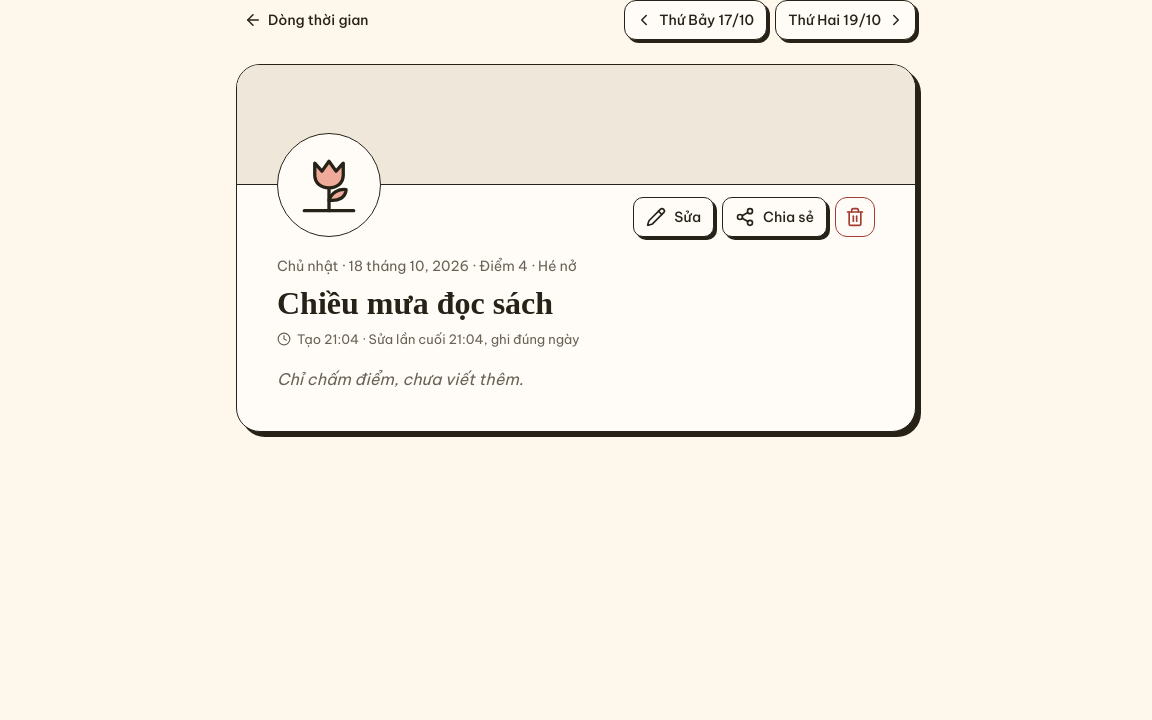
Test: Chi tiết một ngày › hiện trang; xóa cần xác nhận, báo khôi phục được 30 ngày và có Hoàn tác
Expected: the heading "Chiều mưa đọc sách" is shown, [277,285,553,321]
Expected: the text "Tạo 21:04 · Sửa lần cuối 21:04, ghi đúng ngày" is shown, [277,331,580,347]
Click the button named "Xóa nhật ký ngày này" at (855, 217), box [835,197,875,237]
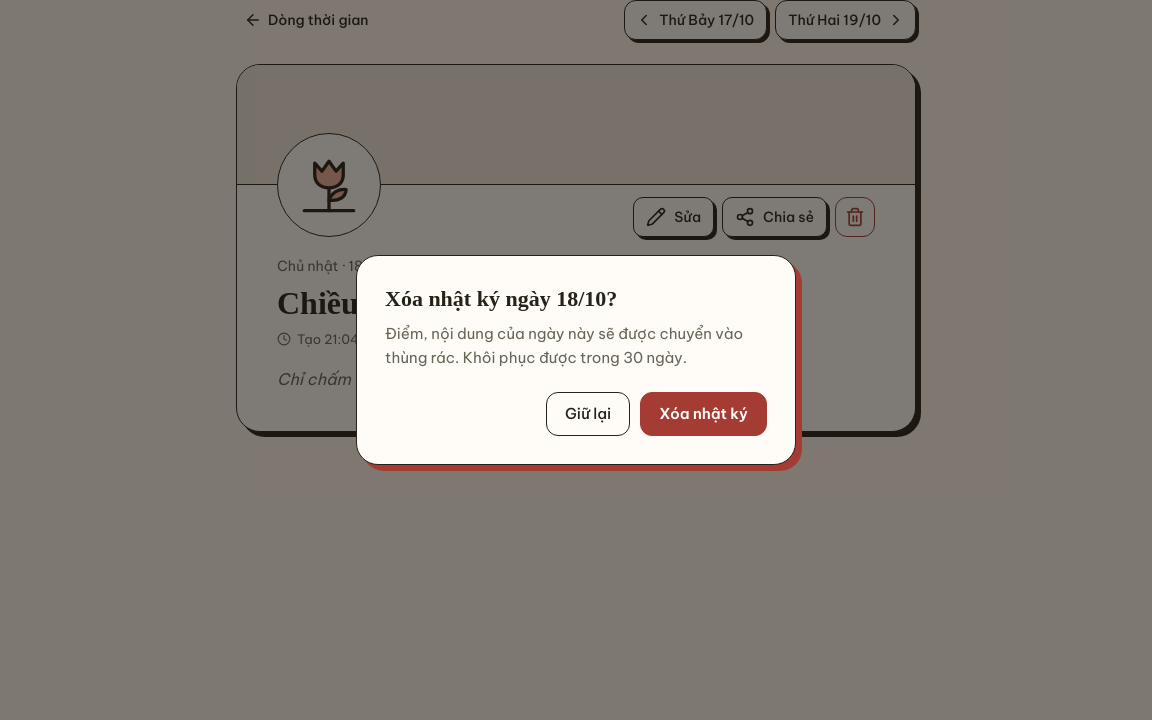
Expected: the text "Khôi phục được trong 30 ngày" is shown, [385,324,743,367]
Click the button "Xóa nhật ký" at (704, 414), box [640,392,767,436]
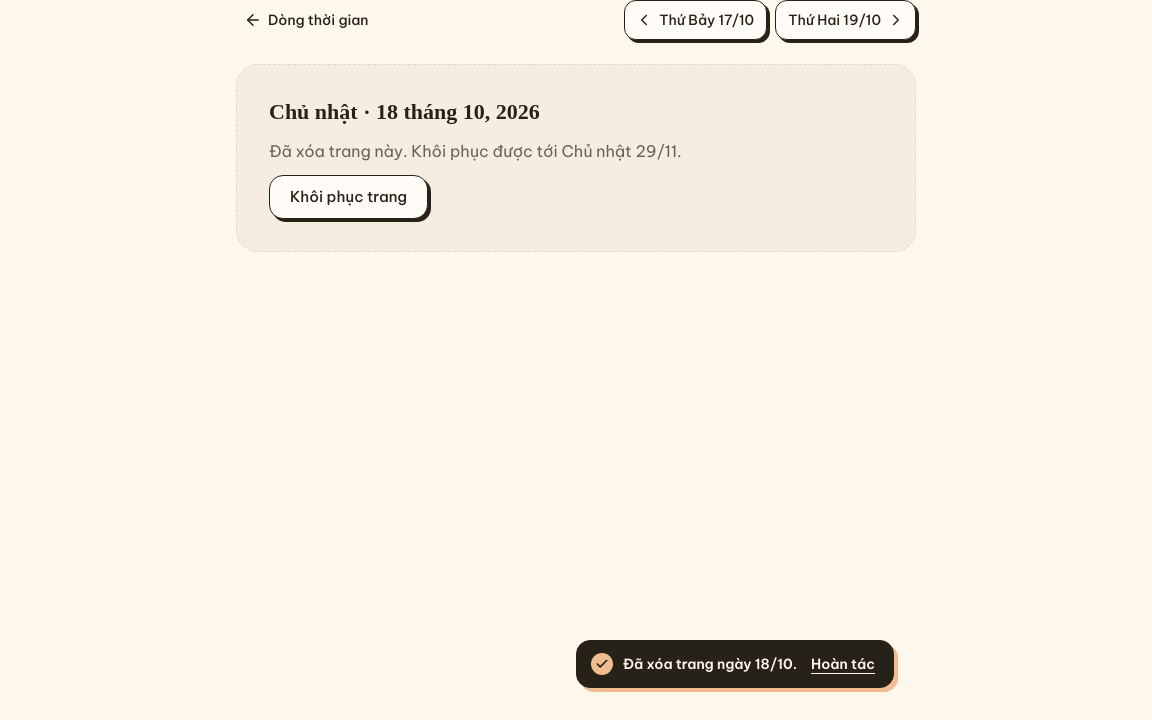
Expected: the text "Đã xóa trang ngày 18/10. Hoàn tác" is shown, [576,640,894,688]
Click the button "Hoàn tác" at (843, 664), box [811,653,875,675]
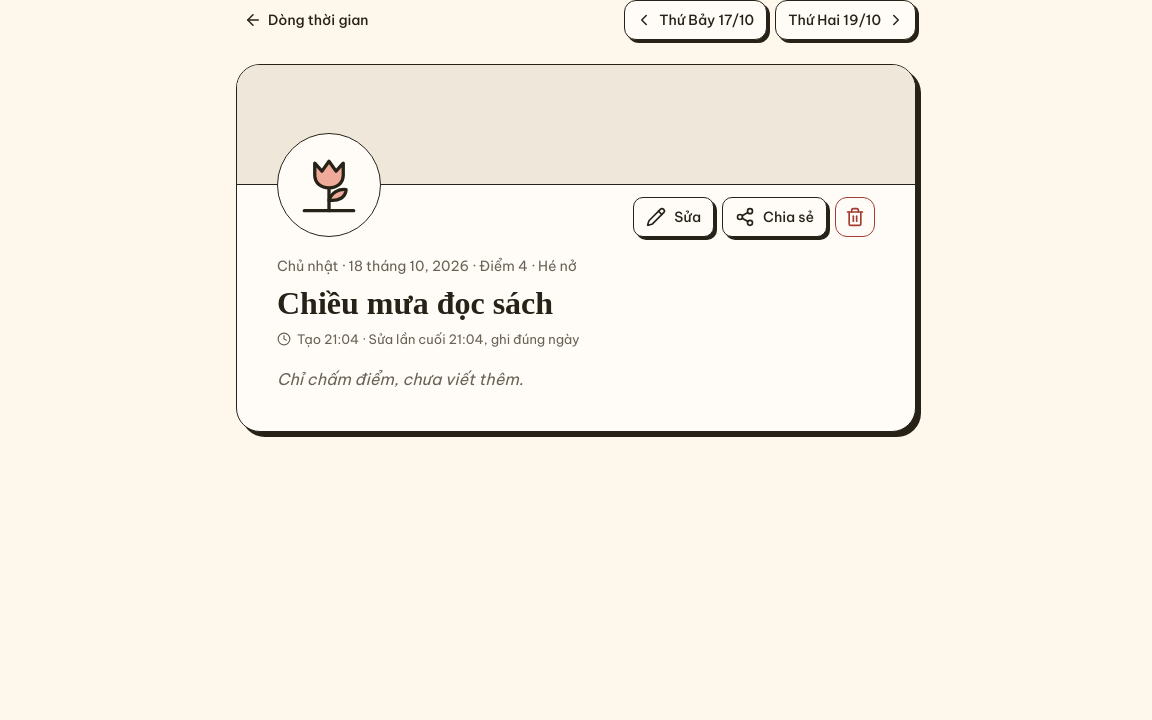
Expected: the heading "Chiều mưa đọc sách" is shown, [277,285,553,321]
